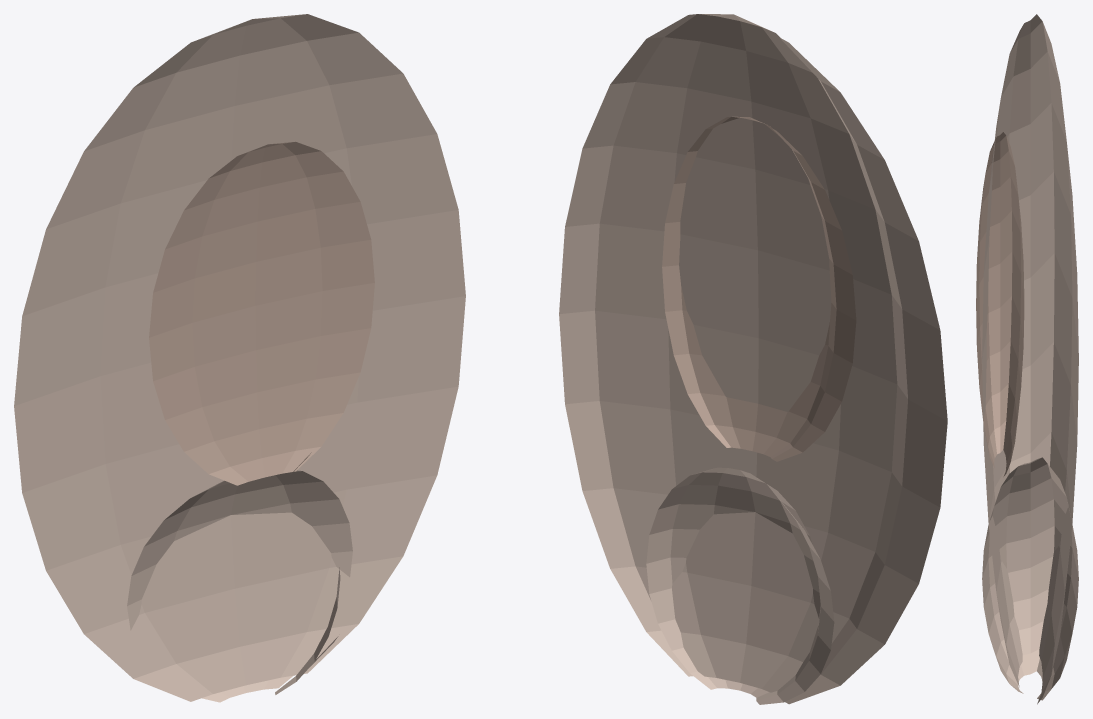
Rendered from ear.glb.
3 renders of one model, left to right at view 1: azimuth 30°, elevation 25°; view 2: azimuth 150°, elevation 25°; view 3: azimuth 270°, elevation 25°, orthographic. The views are drawn at different scales.
Bounding box in the file's own units: 0.8314 × 1.19 × 0.17.
